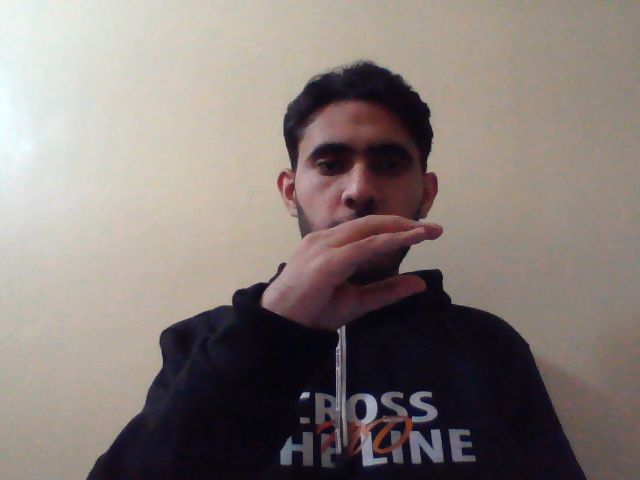C: (255, 210, 438, 338)
